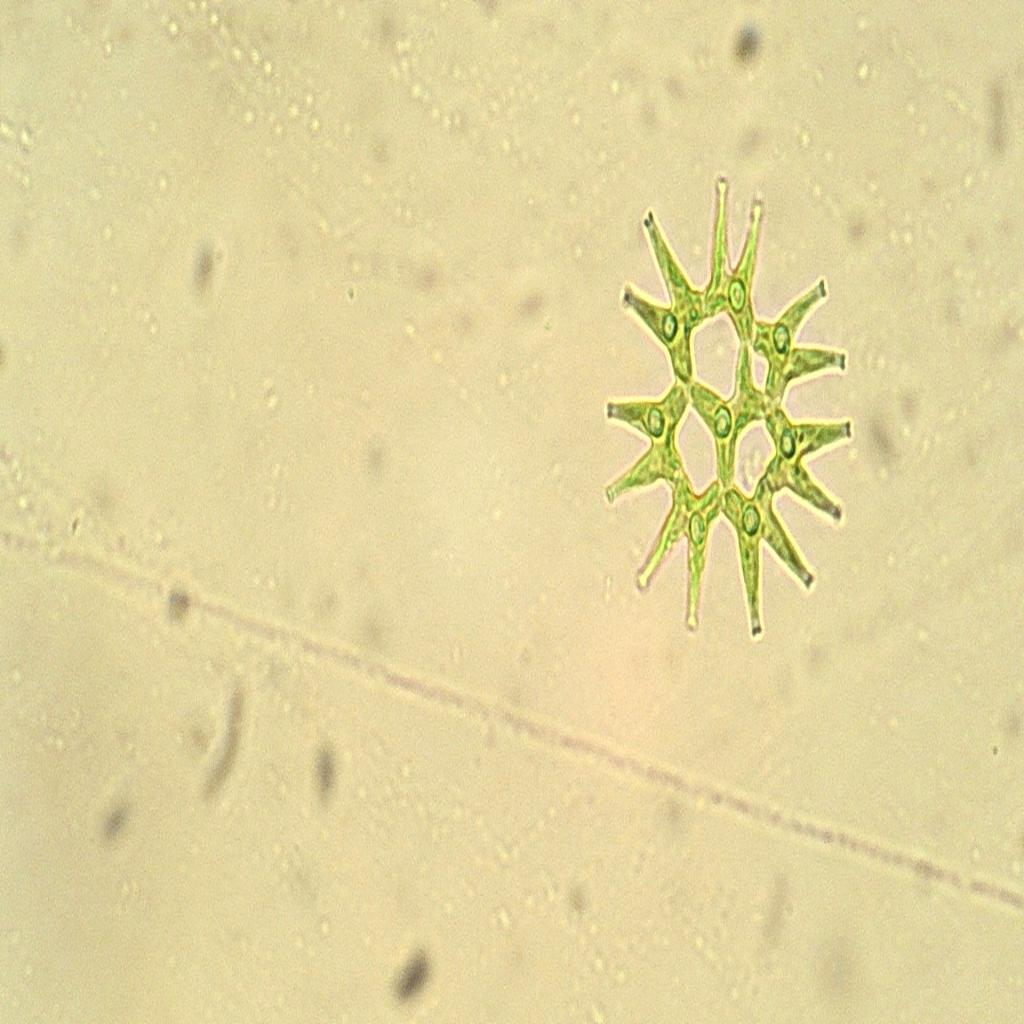Pediastrum_CTH: (590, 168, 862, 646)
